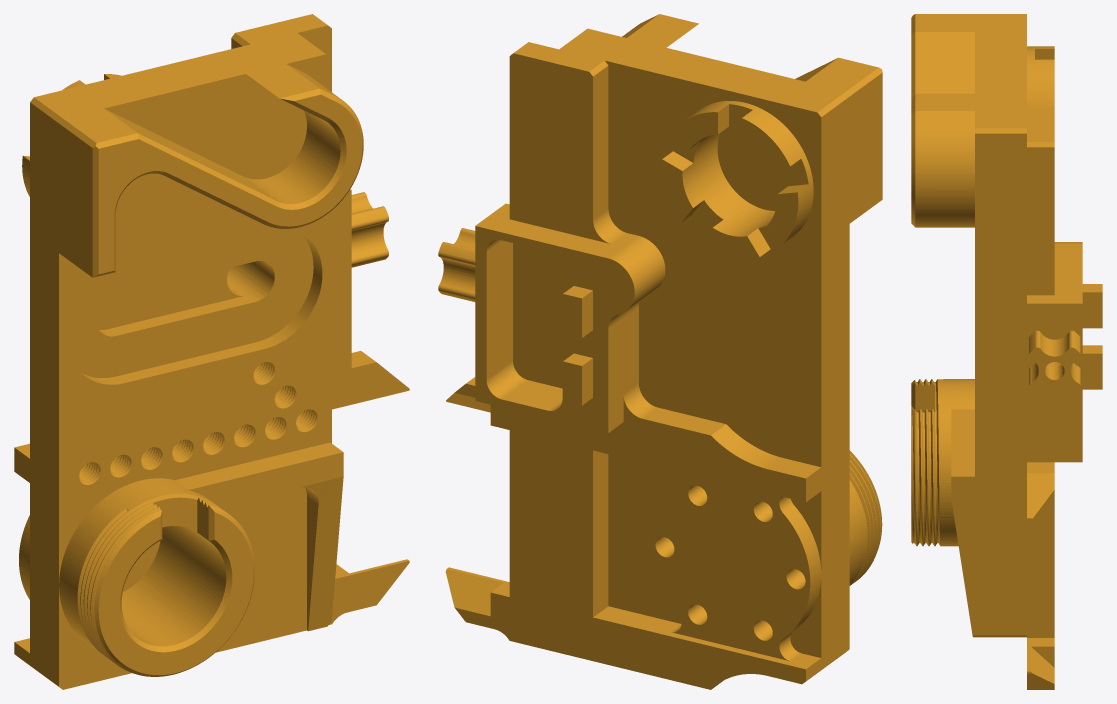
3 views of the same model, side by side, from view 1: azimuth 30°, elevation 25°; view 2: azimuth 150°, elevation 25°; view 3: azimuth 270°, elevation 25° (orthographic). The views are drawn at different scales.
Size of the model in its own units: 98 by 148 by 48.
